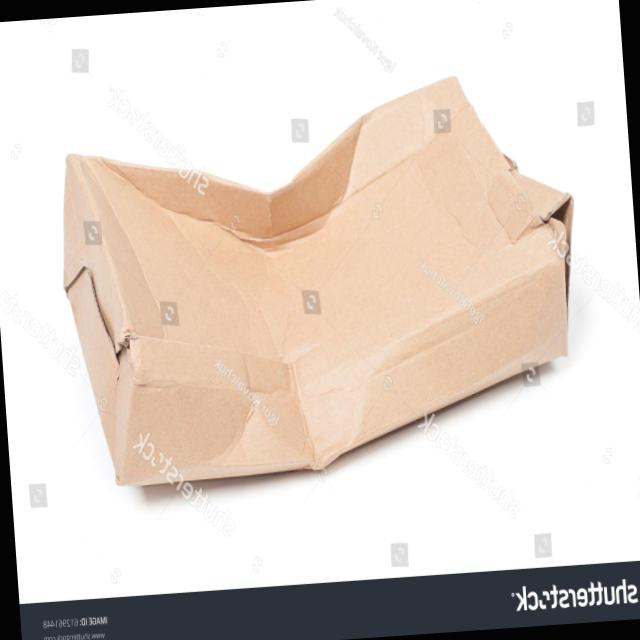Garbage: (45, 62, 596, 503)
